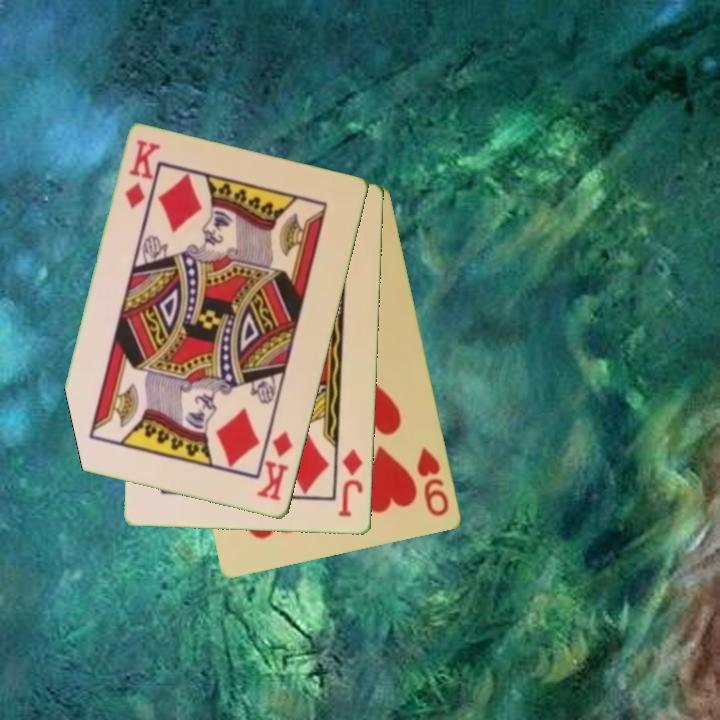9h: (413, 444, 452, 520)
Jd: (335, 445, 366, 520)
Kd: (253, 428, 297, 504), (122, 136, 163, 212)
